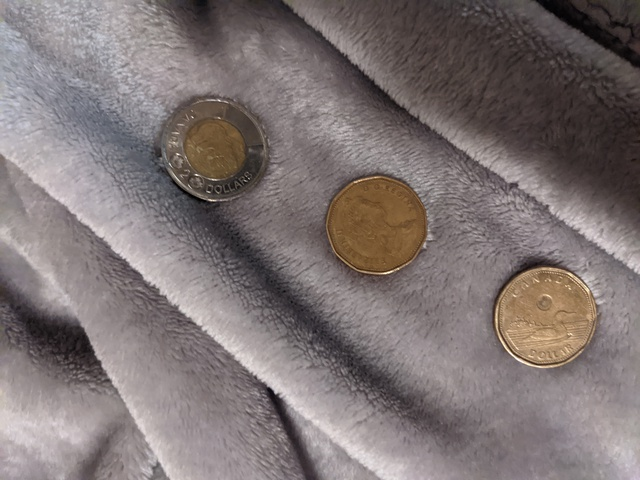loonie: (316, 164, 441, 284), (487, 257, 605, 372)
twonie: (156, 90, 286, 209)
